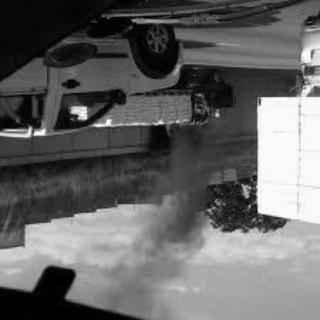Fire: (163, 93, 219, 137)
Smoke: (129, 130, 213, 281)
